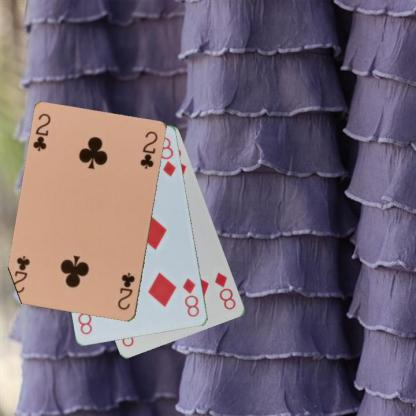2c: (31, 111, 52, 153), (115, 270, 136, 311)
8d: (212, 270, 238, 311), (180, 276, 201, 318)
